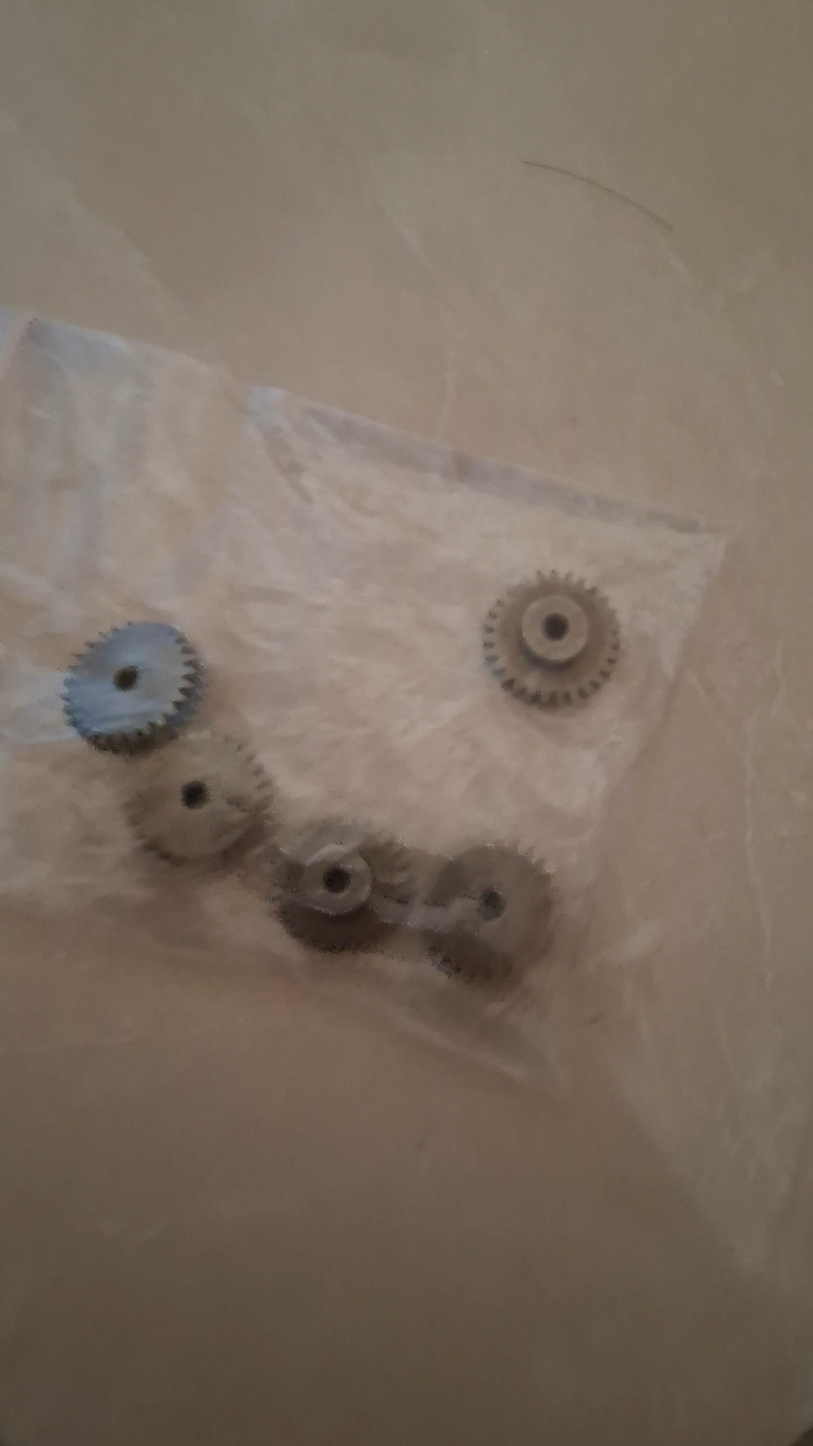spur gear: (125, 733, 272, 861), (273, 821, 414, 952), (63, 622, 203, 753), (484, 573, 620, 707), (422, 845, 553, 984)
